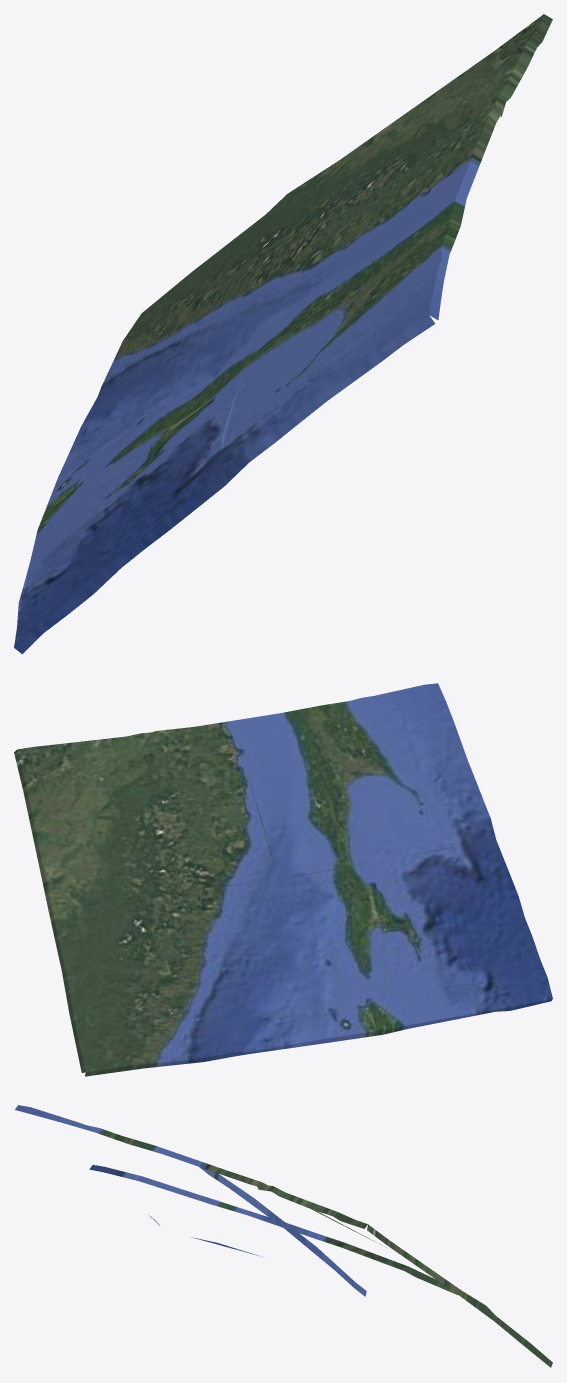
The picture shows the model from 3 angles, top to bottom: view 1: azimuth 30°, elevation 25°; view 2: azimuth 150°, elevation 25°; view 3: azimuth 270°, elevation 25°; orthographic projection. The views are drawn at different scales.
Size of the model in its own units: 898140 by 437547 by 953954.
1 material, 1 textured.
